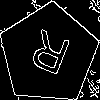R: (24, 29, 73, 85)
